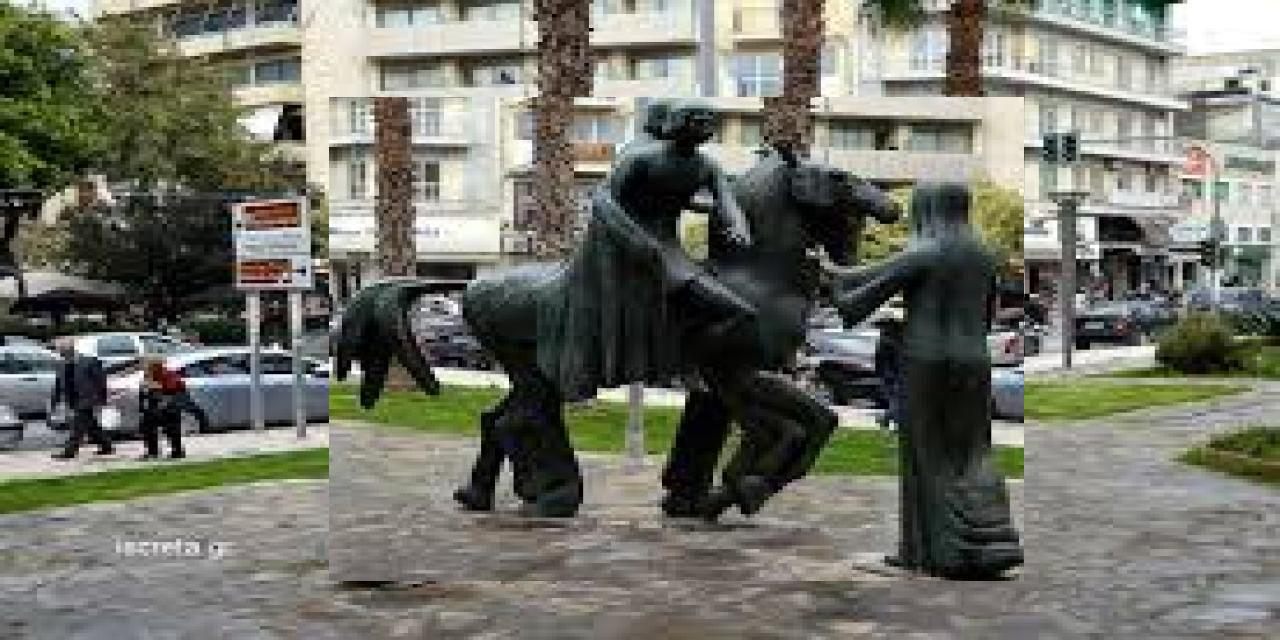Aretousa: (330, 98, 1025, 582)
